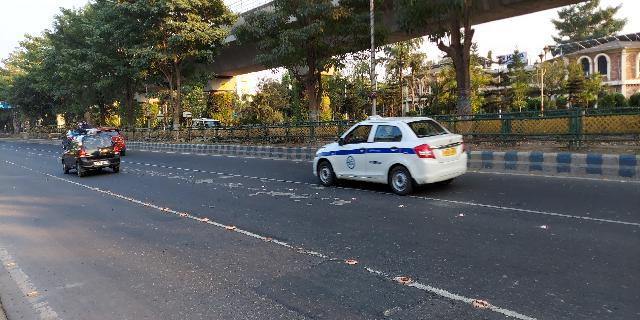Car: (311, 113, 472, 195), (58, 132, 121, 176), (96, 125, 124, 153)
